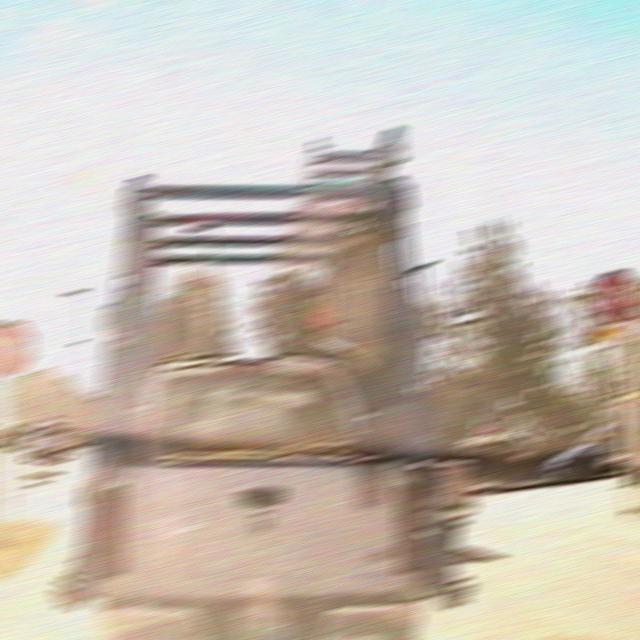stop_sign: (592, 270, 637, 323)
